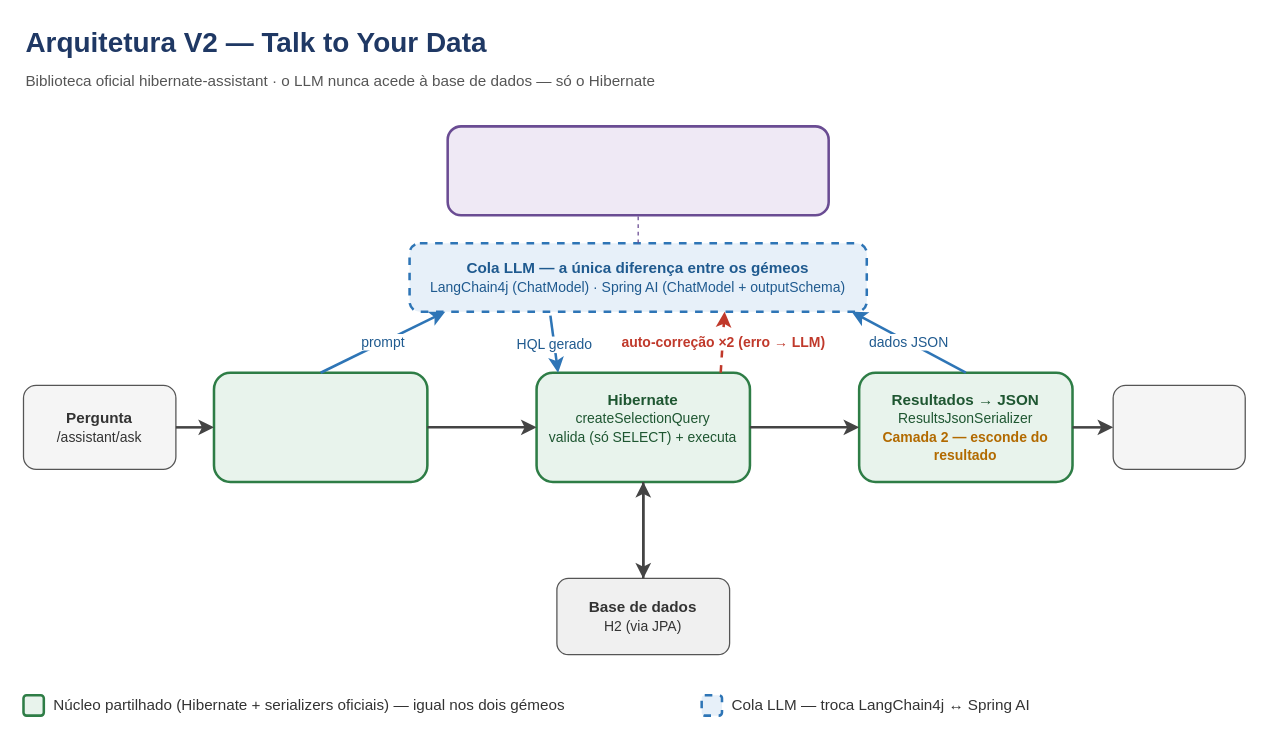
This 1267x742 diagram has some shape labels left out. The shapes that lost their labels are listed below. From the top down, each one's centre as x and y in pixels, then its label:
At pixel 637 170: "LLM local — Ollama qwen2.5-coder:7b · gera HQL / redige resposta".
At pixel 320 427: "Prompt do metamodelo MetamodelJsonSerializer Camada 1 — esconde do prompt".
At pixel 1178 426: "Resposta linguagem natural".
